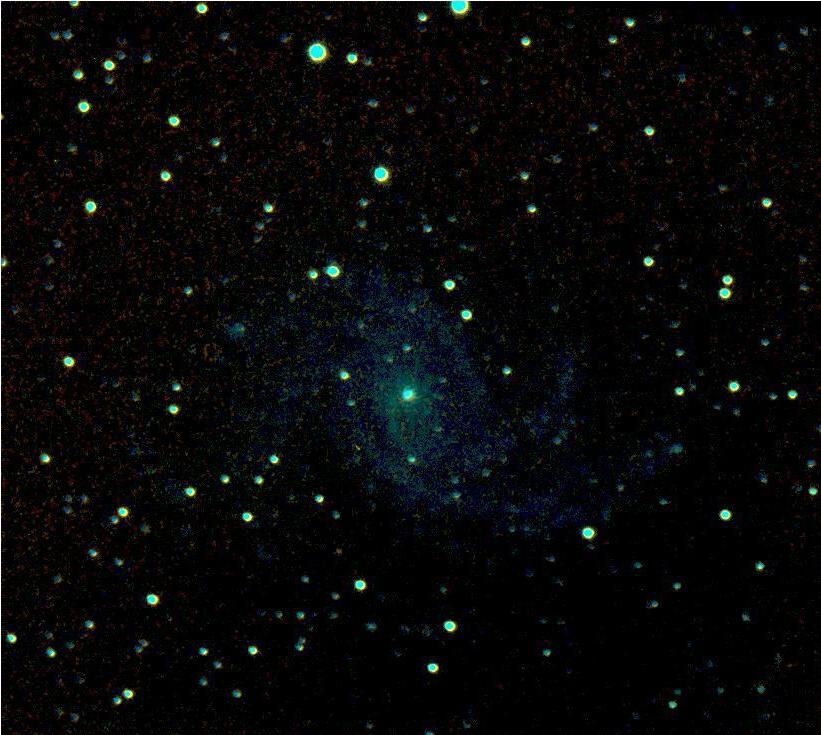star: (324, 535, 354, 565)
